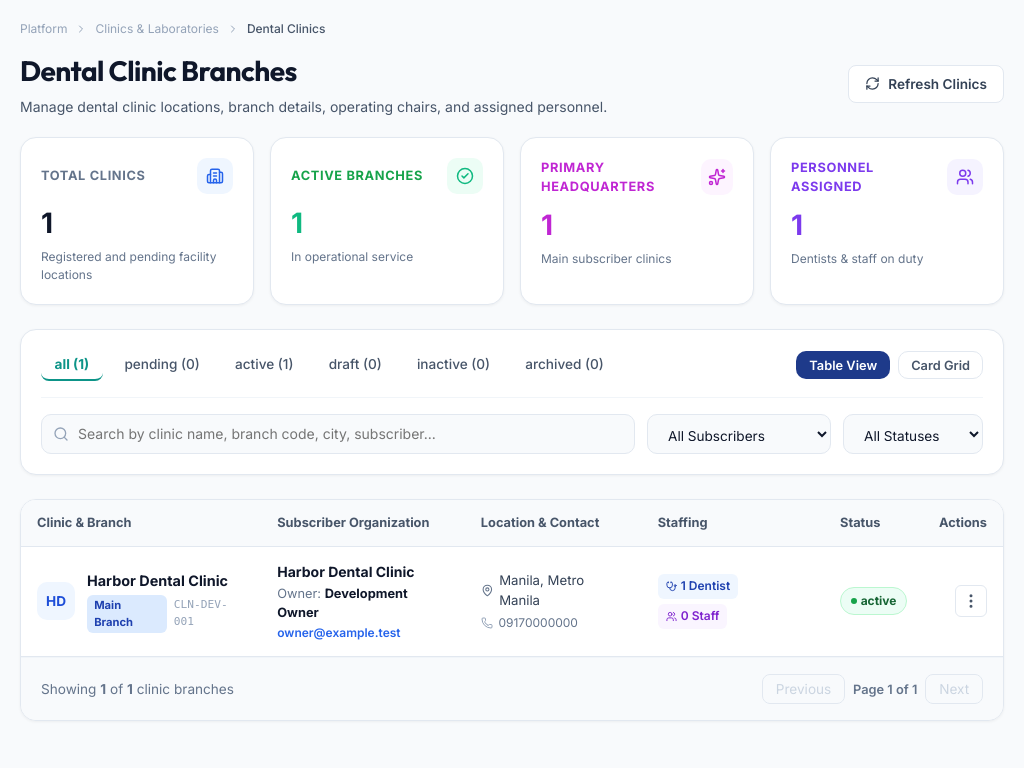
Test: ClinicsPage › renders summaries, filters, tabs, table/card view, and row action menu
Expected: the text "Development Owner" is shown, [277,586,408,620]
Expected: the heading "Dental Clinic Branches" is shown, [20,53,297,88]
Click the button "active (1)".
click(264, 365)  # box [221,350,307,381]
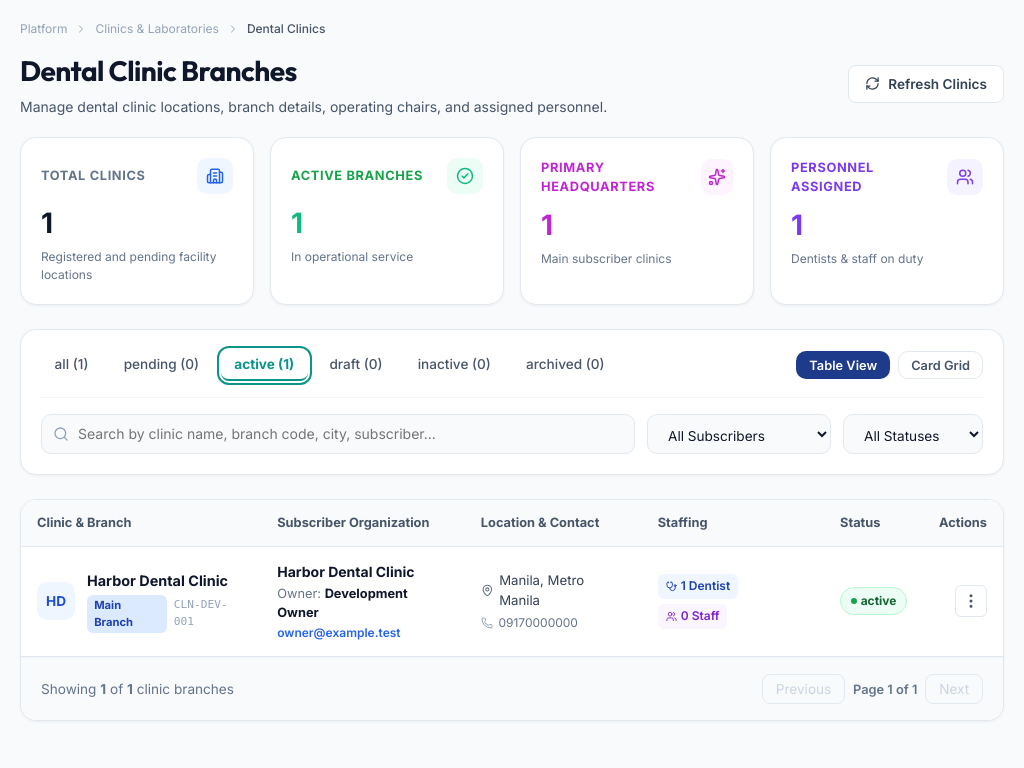
Type "Harbor" into the field with placeholder "Search by clinic name, branch code, city, subscriber...".
click(338, 434); type("Harbor")  # box [41,414,635,454]
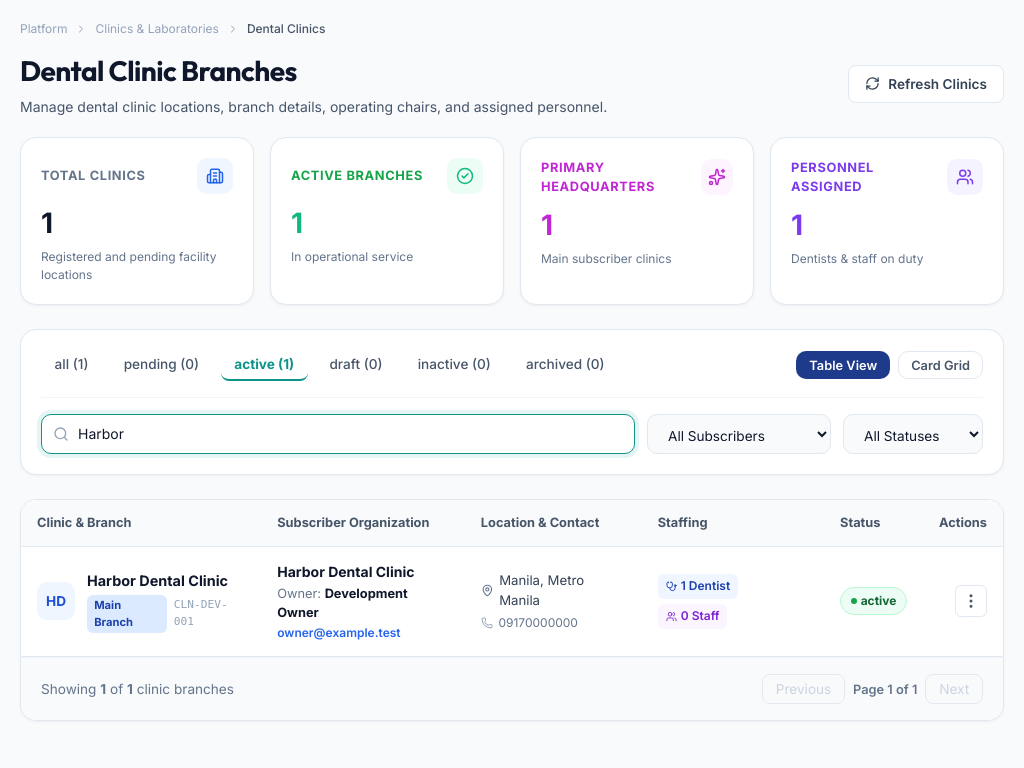
Click the button "Card Grid".
click(941, 365)  # box [898,351,983,380]
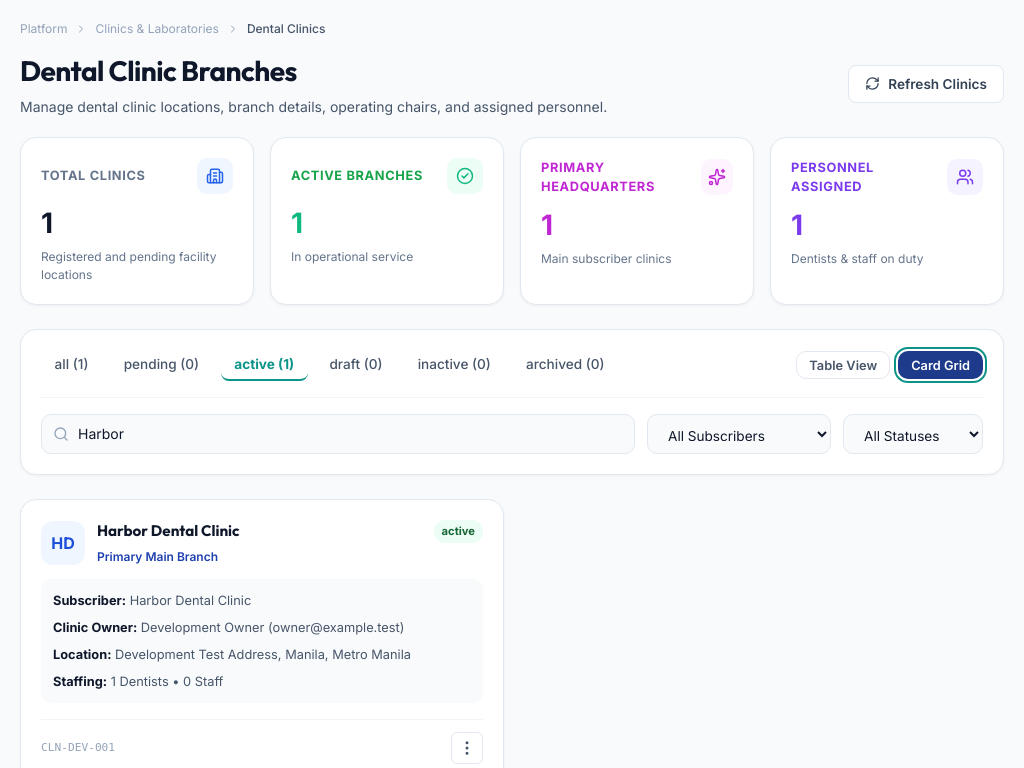
Expected: the text "Primary Main Branch" is shown, [97,549,218,564]
Click the button named "Actions for clinic".
click(467, 748)  # box [451,732,483,764]
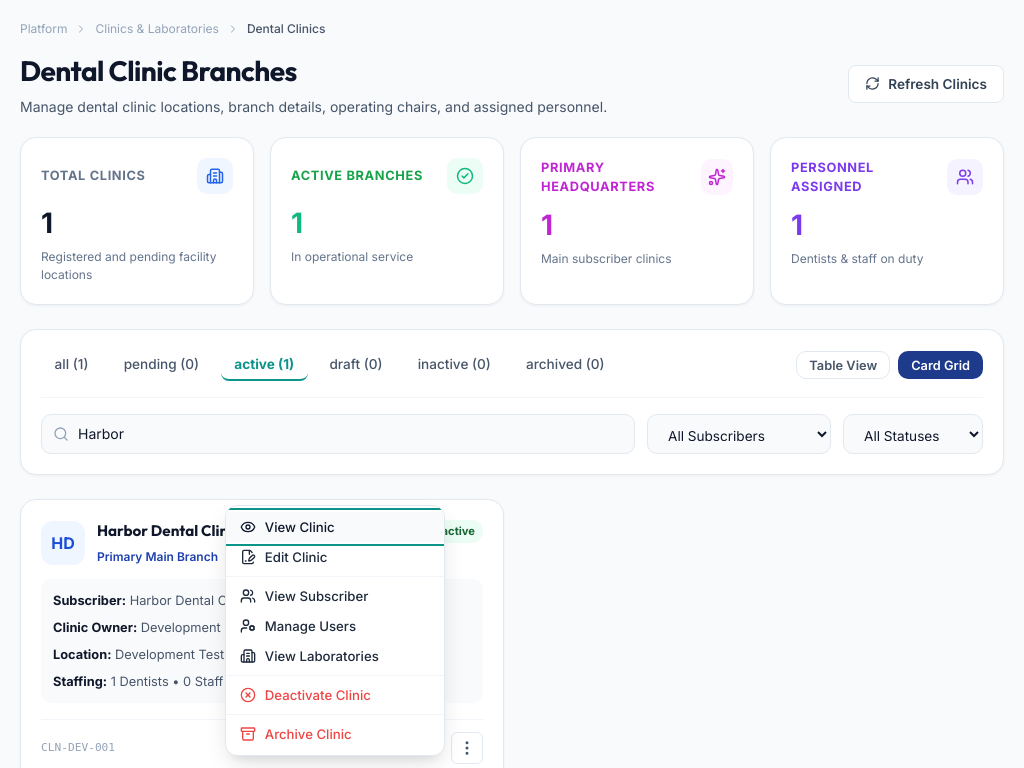
Expected: the menu item "View Clinic" is shown, [226,512,444,542]
